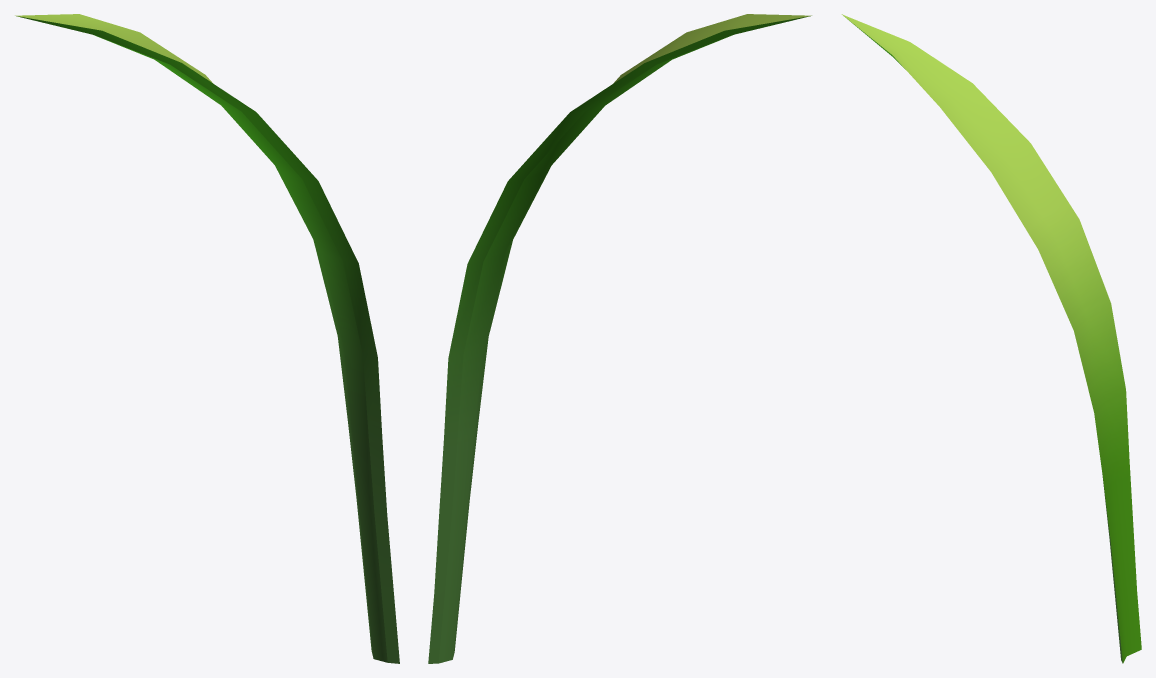
The model's file is grass_straw.fbx.
The picture shows the model from 3 angles, left to right: view 1: azimuth 30°, elevation 25°; view 2: azimuth 150°, elevation 25°; view 3: azimuth 330°, elevation 25°; orthographic projection. The views are drawn at different scales.
Visible parts, largest first — view 1: straw; view 2: straw; view 3: straw.
Part boxes in pixels (<box>): straw: <box>15,14,399,663</box>; straw: <box>428,14,811,663</box>; straw: <box>841,14,1141,663</box>.
Size of the model in its own units: 3.69 by 6.91 by 0.9044.
1 material, 1 textured.
